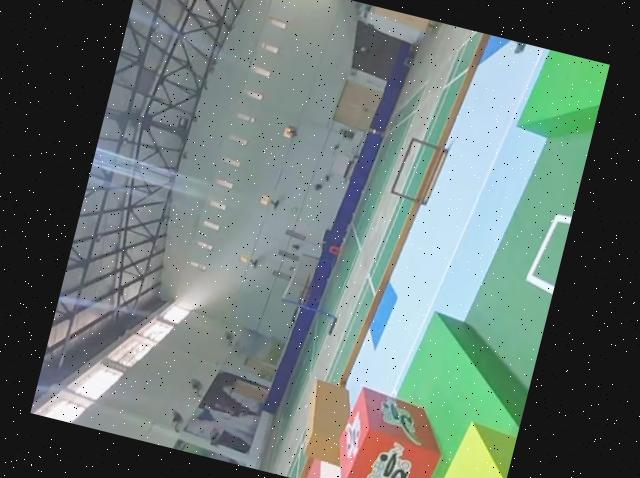R1: (325, 381, 455, 478)
